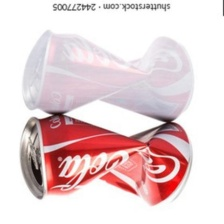can: (12, 28, 207, 125), (13, 113, 197, 210)
